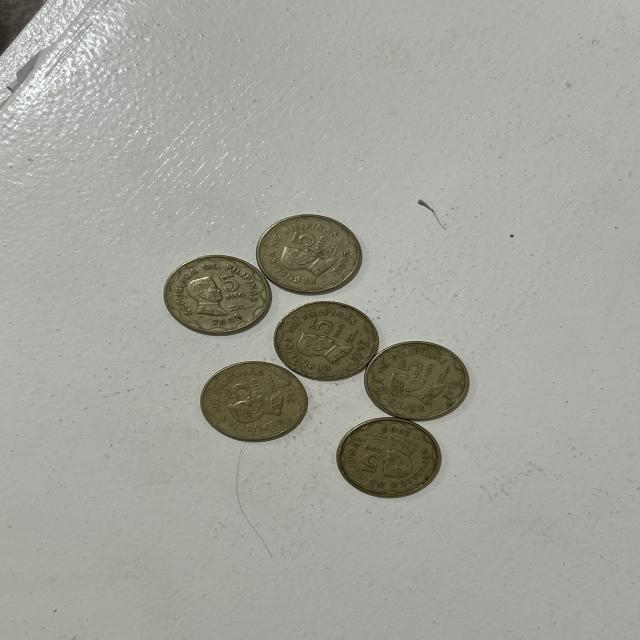5_Old_Front: (286, 224, 334, 251), (218, 376, 262, 401), (394, 354, 438, 379), (357, 438, 387, 474), (216, 270, 247, 304), (312, 315, 348, 340)
